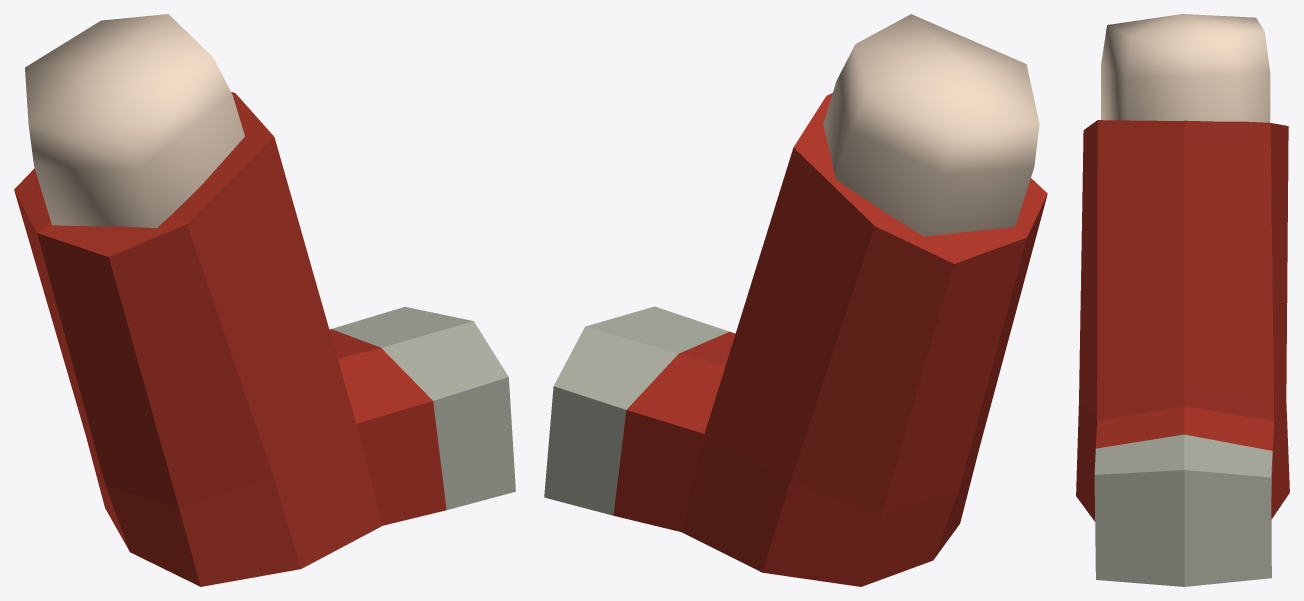
The model's file is InhalerPickup.fbx.
3 renders of one model, left to right at view 1: azimuth 30°, elevation 25°; view 2: azimuth 150°, elevation 25°; view 3: azimuth 270°, elevation 25°, orthographic. The views are drawn at different scales.
Parts seen in each view (by area): view 1: Body, Cartridge, Cap; view 2: Body, Cartridge, Cap; view 3: Body, Cap, Cartridge.
Part boxes in pixels (x1,y1,x2,y2): Body: (14,92,446,586); Cartridge: (25,14,244,227); Cap: (332,307,515,509); Body: (613,93,1047,586); Cartridge: (823,14,1039,236); Cap: (544,306,729,515); Body: (1076,120,1289,521); Cap: (1094,434,1272,586); Cartridge: (1101,14,1270,122).
Bounding box in the file's own units: 9.41 × 20.18 × 21.66.
